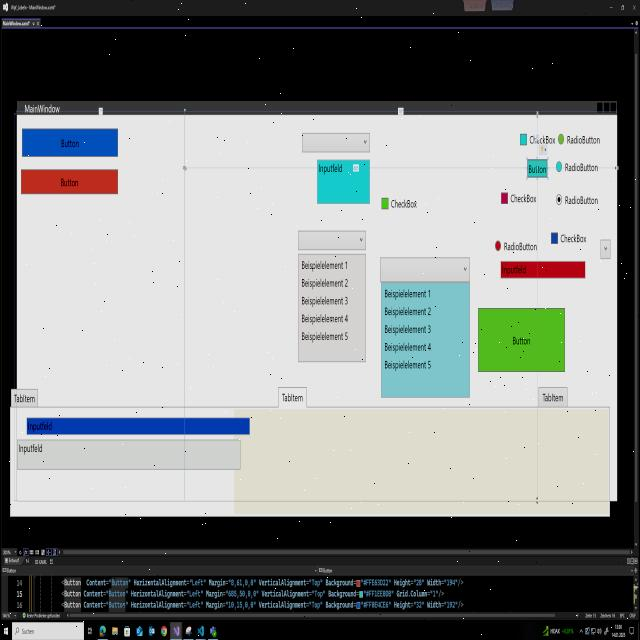button: (475, 304, 567, 376), (19, 124, 120, 158), (19, 165, 120, 198), (524, 153, 550, 181)
checkbox: (500, 190, 509, 207), (550, 230, 559, 247), (519, 132, 528, 147), (381, 196, 389, 211)
dropdownMenu: (379, 254, 471, 400), (297, 228, 367, 364), (302, 131, 371, 154), (600, 238, 612, 260)
input: (16, 436, 242, 474), (26, 416, 251, 436), (315, 156, 372, 208), (499, 258, 587, 282)
label: (566, 134, 600, 146), (561, 232, 587, 245), (565, 162, 598, 172), (504, 242, 537, 252), (565, 196, 598, 205), (510, 193, 537, 204), (530, 135, 556, 145), (391, 199, 417, 209)
menuItem: (384, 357, 432, 372), (384, 286, 432, 300), (384, 341, 432, 354), (302, 330, 348, 343), (301, 276, 349, 288), (301, 260, 349, 272), (301, 295, 349, 307), (301, 313, 349, 325), (384, 306, 432, 318), (384, 324, 432, 336)
radio: (494, 240, 502, 252), (556, 193, 562, 206), (558, 133, 564, 145), (556, 160, 562, 172)
tabControl: (534, 384, 571, 412), (275, 385, 310, 414), (10, 386, 40, 411)
